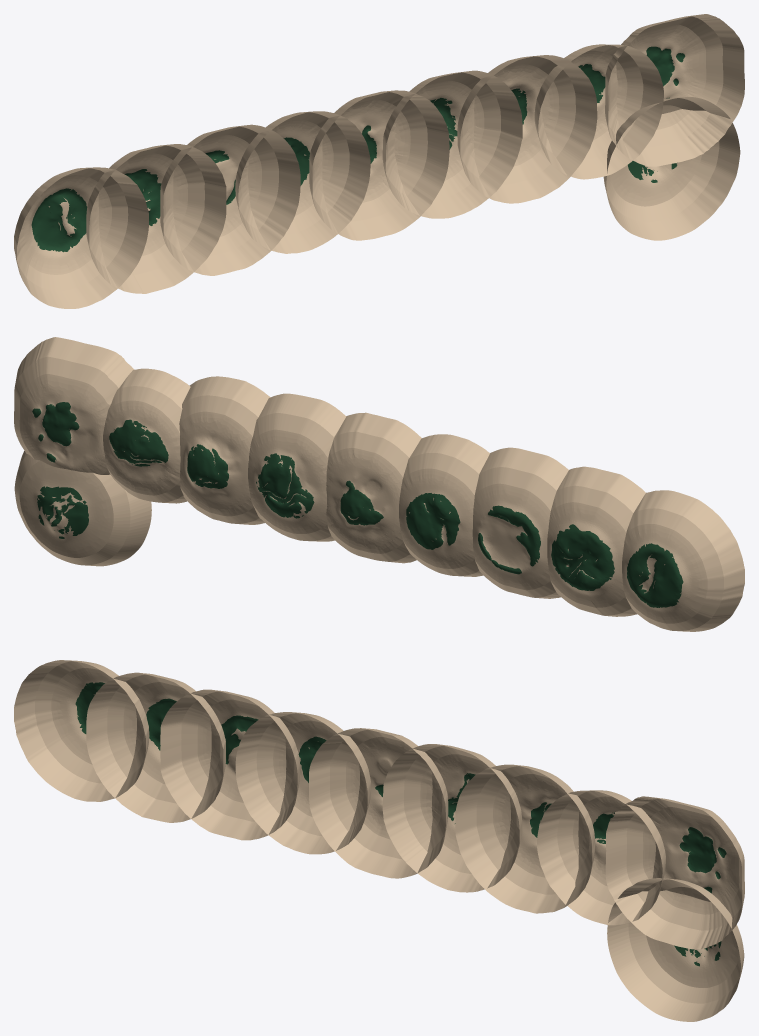
File: Islands 1 (LOD 1).fbx
3 renders of one model, top to bottom at view 1: azimuth 30°, elevation 25°; view 2: azimuth 150°, elevation 25°; view 3: azimuth 330°, elevation 25°, orthographic.
Visible parts, largest first — view 1: Island (LOD 1) 9, Island (LOD 1) 3, Island (LOD 1) 8, Island (LOD 1) 5, Island (LOD 1) 1, Island (LOD 1) 2, Island (LOD 1) 6, Island (LOD 1) 10, Island (LOD 1) 7, Island (LOD 1) 4; view 2: Island (LOD 1) 9, Island (LOD 1) 3, Island (LOD 1) 1, Island (LOD 1) 2, Island (LOD 1) 6, Island (LOD 1) 10, Island (LOD 1) 8, Island (LOD 1) 5, Island (LOD 1) 7, Island (LOD 1) 4; view 3: Island (LOD 1) 3, Island (LOD 1) 5, Island (LOD 1) 8, Island (LOD 1) 2, Island (LOD 1) 9, Island (LOD 1) 1, Island (LOD 1) 10, Island (LOD 1) 6, Island (LOD 1) 7, Island (LOD 1) 4.
Part boxes in pixels (x1,y1,x2,y2): Island (LOD 1) 9: (14,167,148,308); Island (LOD 1) 3: (605,14,744,166); Island (LOD 1) 8: (309,90,449,240); Island (LOD 1) 5: (457,55,597,203); Island (LOD 1) 1: (86,144,226,293); Island (LOD 1) 2: (160,124,300,275); Island (LOD 1) 6: (382,70,522,218); Island (LOD 1) 10: (603,97,740,240); Island (LOD 1) 7: (235,111,370,253); Island (LOD 1) 4: (534,44,663,179); Island (LOD 1) 9: (622,490,744,631); Island (LOD 1) 3: (14,337,133,474); Island (LOD 1) 1: (547,466,645,616); Island (LOD 1) 2: (472,447,568,598); Island (LOD 1) 6: (248,393,346,541); Island (LOD 1) 10: (14,451,151,566); Island (LOD 1) 8: (326,412,421,563); Island (LOD 1) 5: (179,376,270,524); Island (LOD 1) 7: (399,434,489,576); Island (LOD 1) 4: (103,368,190,503); Island (LOD 1) 3: (605,796,744,949); Island (LOD 1) 5: (455,764,594,913); Island (LOD 1) 8: (309,728,448,878); Island (LOD 1) 2: (160,689,299,840); Island (LOD 1) 9: (14,660,149,801); Island (LOD 1) 1: (86,672,225,822); Island (LOD 1) 10: (607,878,744,1021); Island (LOD 1) 6: (382,744,522,892); Island (LOD 1) 7: (235,712,370,854); Island (LOD 1) 4: (537,790,665,925).
Size of the model in its own units: 1965 by 568 by 133.
